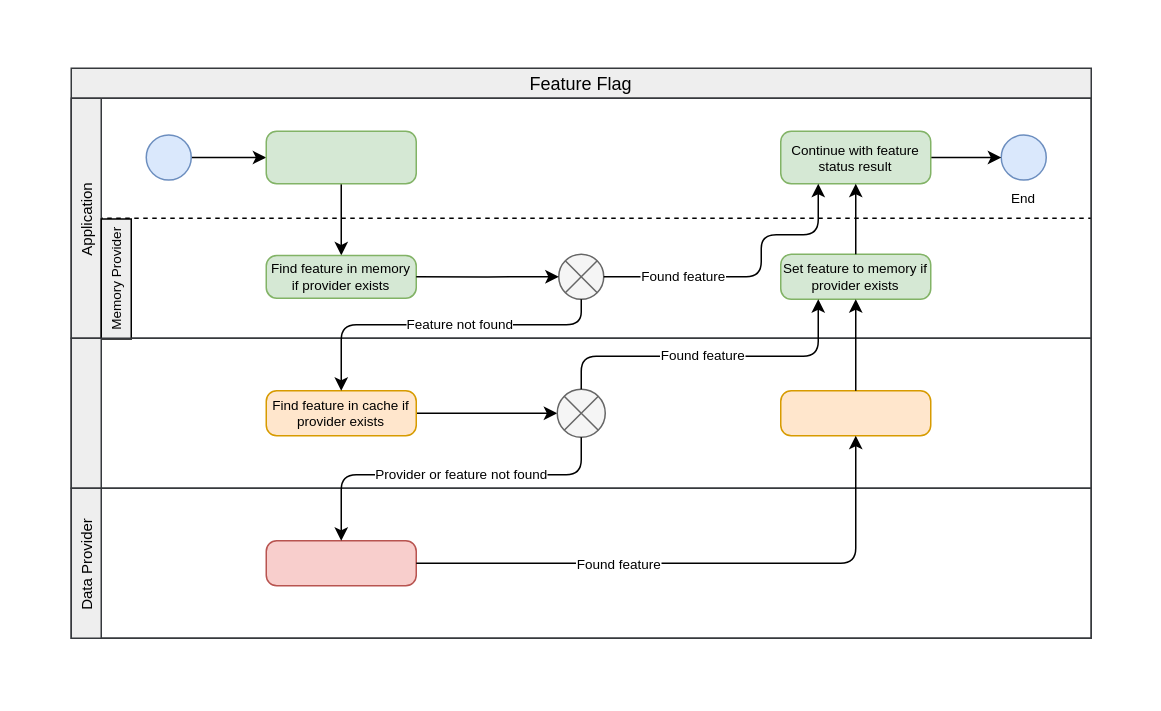
Some shapes in this 1161 by 711 pixel diagram are drawn without their labels. The shapes that lost their labels are listed below. From the top down, each one's box as (x1, y1, x2, y2) in pixels, then its label:
(145, 134, 191, 180): Start
(265, 130, 416, 184): Request the feature flag to continue
(70, 337, 1091, 488): Cache Provider
(779, 389, 931, 436): Set feature to cache if provider exists
(265, 539, 416, 586): Find feature in data provider
